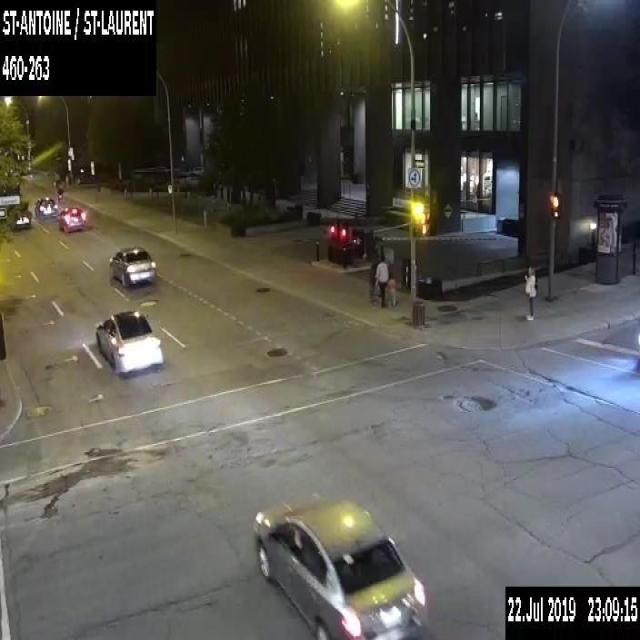pedestrian: (373, 253, 388, 308), (524, 264, 537, 321), (386, 272, 399, 307)
vehicle: (252, 494, 429, 638), (94, 308, 162, 373), (108, 244, 156, 287), (57, 205, 86, 232), (34, 196, 58, 219), (13, 214, 31, 229), (56, 185, 63, 202)
